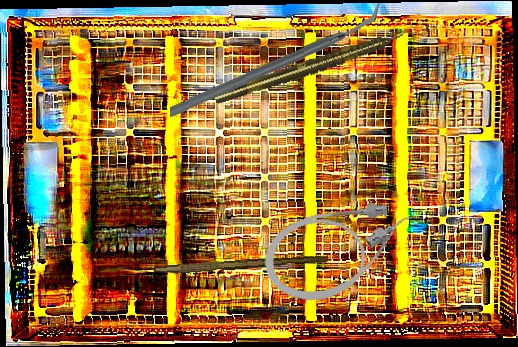Cannula: (255, 187, 430, 313)
Chopper: (168, 2, 382, 119)
Handpiece: (211, 25, 410, 107)
Scalpel Handle: (153, 251, 329, 279)
